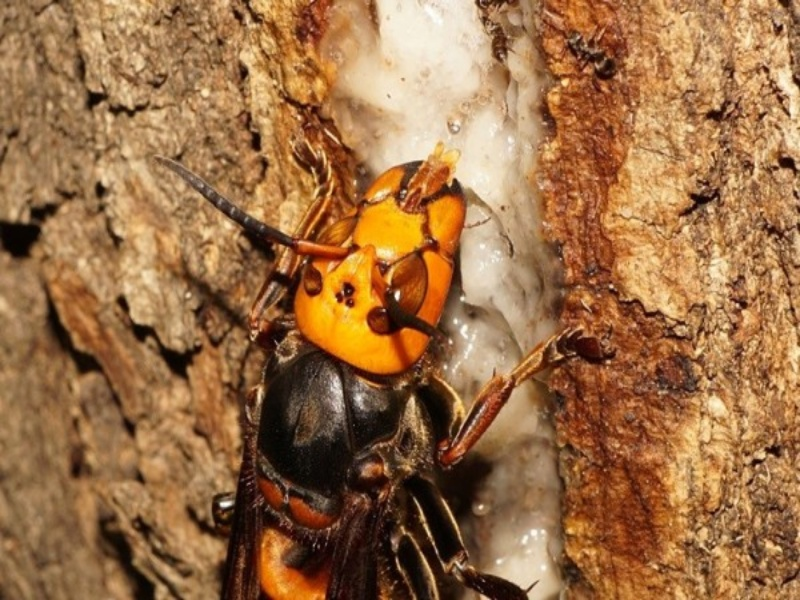asian_giant_hornet: (212, 132, 565, 600)
